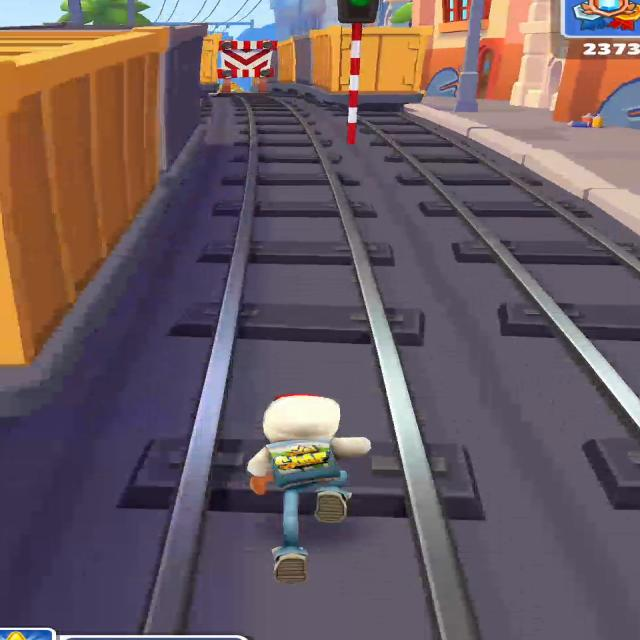jump-barrier: (219, 39, 277, 94)
train: (0, 25, 208, 374), (359, 27, 432, 111), (163, 26, 206, 168), (306, 26, 350, 97), (200, 33, 221, 85), (279, 41, 303, 84)
